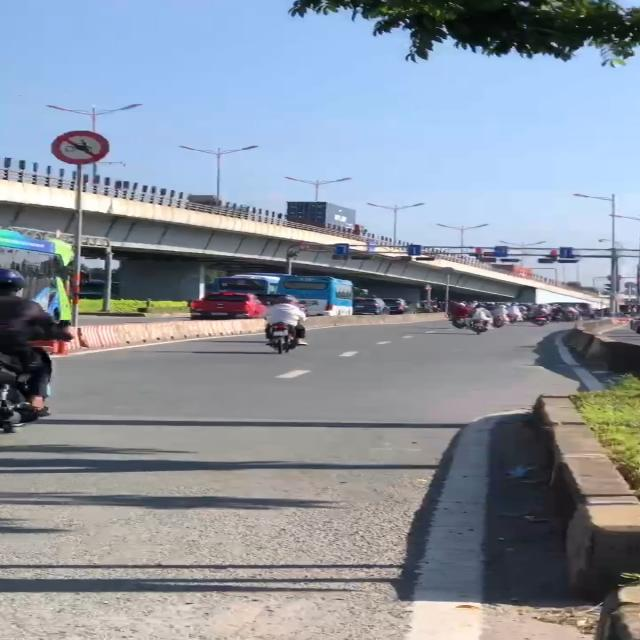Bien bao cam xe may: (36, 128, 115, 170)
